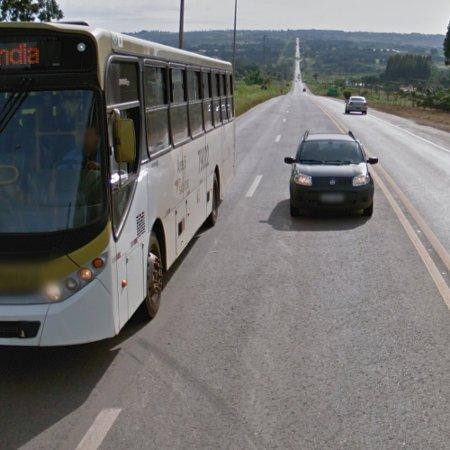buses: (0, 22, 235, 347)
